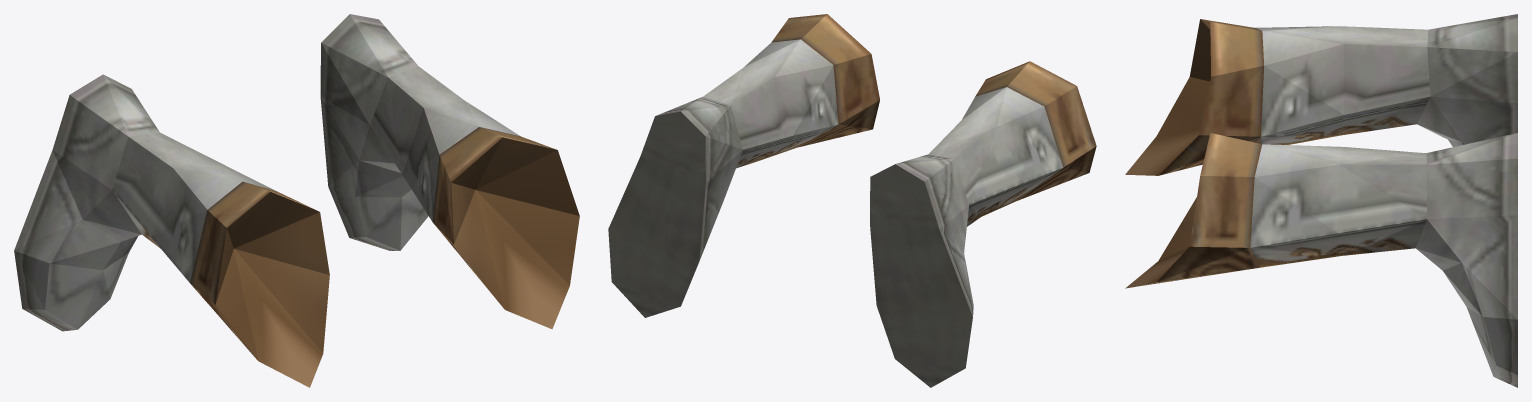
Rendered from priest_shoe_male_49041.obj.
3 renders of one model, left to right at view 1: azimuth 30°, elevation 25°; view 2: azimuth 150°, elevation 25°; view 3: azimuth 270°, elevation 25°, orthographic. The views are drawn at different scales.
Parts seen in each view (by area): view 1: priest_shoe_male_49041; view 2: priest_shoe_male_49041; view 3: priest_shoe_male_49041.
Boxes of the visible parts, x1,y1,x2,y2 form: priest_shoe_male_49041: (14,14,579,387); priest_shoe_male_49041: (608,14,1096,387); priest_shoe_male_49041: (1125,14,1517,387).
Size of the model in its own units: 27.2 by 15.36 by 23.14.
1 material, 1 textured.
